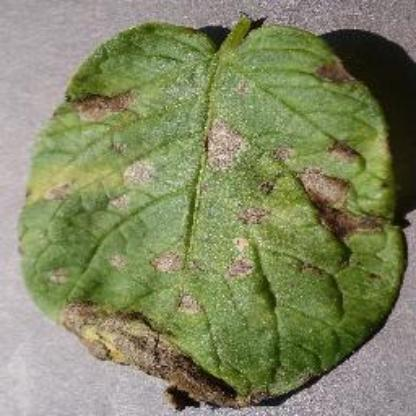Early-Blight: (19, 14, 406, 408)
